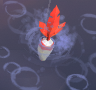active: (15, 2, 82, 71)
